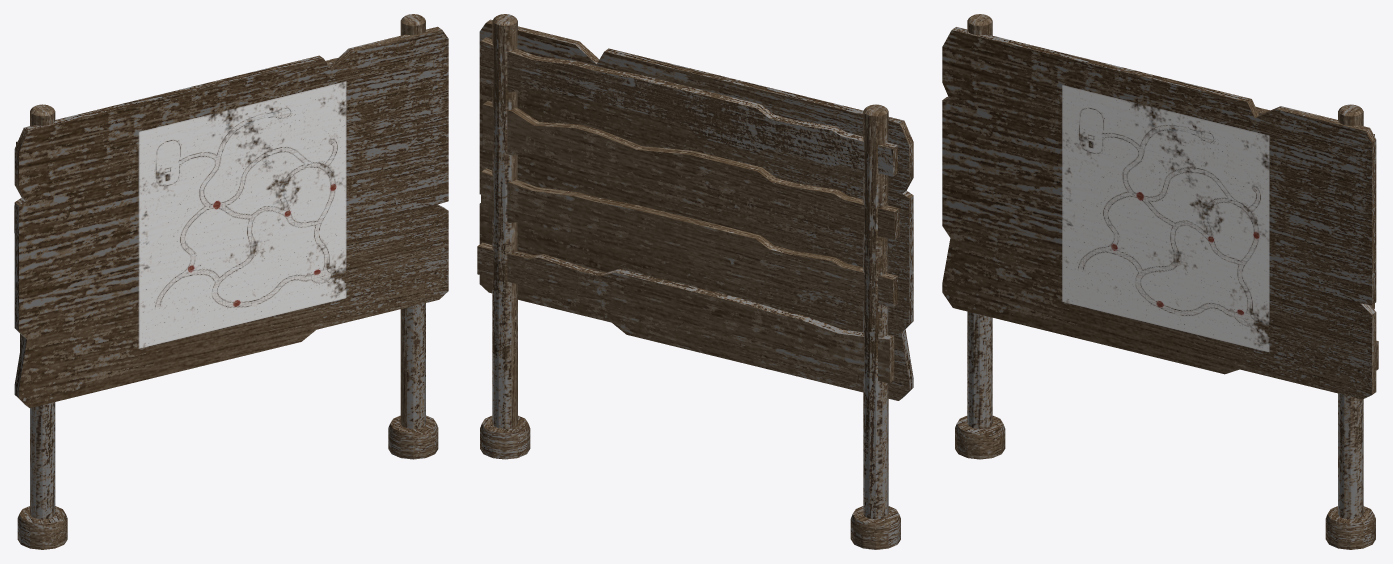
File: papanboard.fbx
3 views of the same model, side by side, from view 1: azimuth 30°, elevation 25°; view 2: azimuth 150°, elevation 25°; view 3: azimuth 330°, elevation 25° (orthographic).
Visible parts, largest first — view 1: Cylinder; view 2: Cylinder; view 3: Cylinder.
Part boxes in pixels (x1,y1,x2,y2): Cylinder: (14,14,448,549); Cylinder: (477,14,913,549); Cylinder: (942,14,1378,549).
Bounding box in the file's own units: 257 × 246 × 26.02.
1 material, 1 textured.
